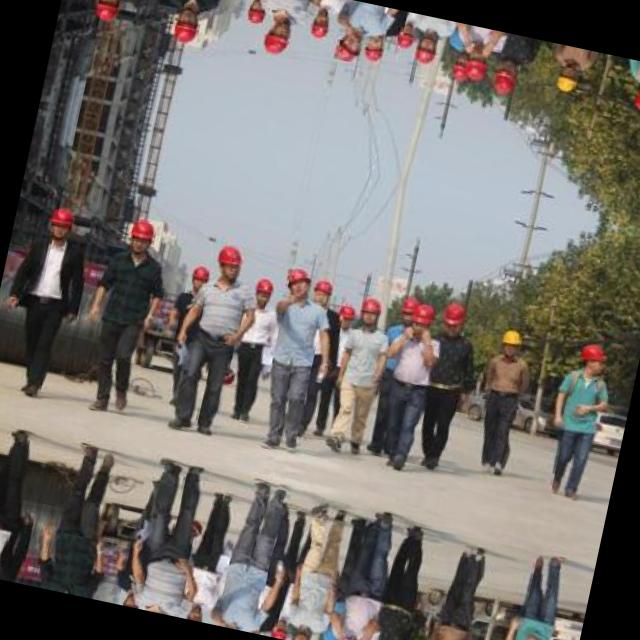helmet: (575, 336, 615, 380), (212, 238, 250, 282), (259, 16, 297, 59), (329, 26, 368, 66), (279, 261, 318, 300), (40, 202, 78, 242), (122, 215, 157, 257), (168, 1, 202, 44), (436, 296, 469, 338), (488, 55, 520, 97), (353, 293, 388, 331), (409, 28, 444, 66), (461, 40, 492, 80), (406, 300, 436, 340), (494, 324, 524, 358), (550, 60, 580, 93), (248, 274, 274, 310), (306, 3, 332, 39), (184, 258, 211, 292), (307, 275, 333, 309), (360, 28, 386, 62), (87, 0, 125, 23), (332, 296, 358, 329), (391, 19, 417, 52), (396, 291, 419, 323), (240, 0, 267, 27), (448, 51, 470, 82), (266, 616, 291, 638), (182, 600, 206, 620), (287, 625, 318, 640), (117, 590, 142, 608), (630, 74, 640, 118)
